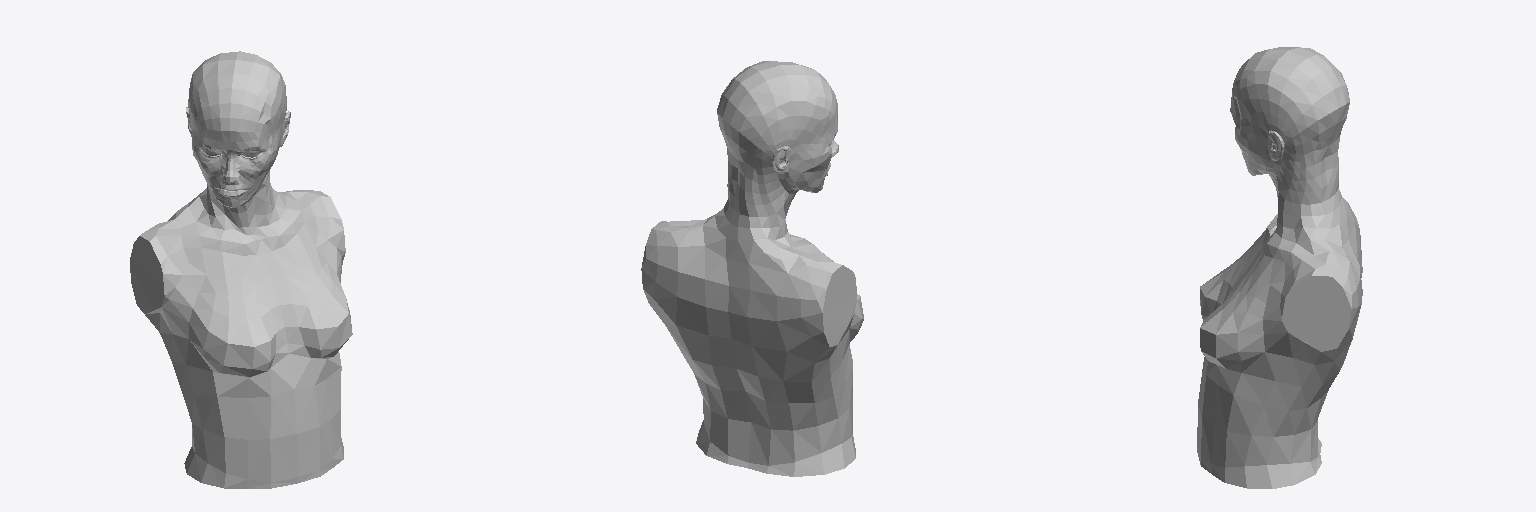
Rendered from mall_mannequin_female_torso2.obj.
The picture shows the model from 3 angles: view 1: azimuth 30°, elevation 25°; view 2: azimuth 150°, elevation 25°; view 3: azimuth 270°, elevation 25°; orthographic projection.
Parts seen in each view (by area): view 1: mall_mannequin_female_torso2; view 2: mall_mannequin_female_torso2; view 3: mall_mannequin_female_torso2.
Boxes of the visible parts, x1,y1,x2,y2 form: mall_mannequin_female_torso2: [130, 51, 352, 488]; mall_mannequin_female_torso2: [641, 61, 863, 476]; mall_mannequin_female_torso2: [1197, 47, 1362, 488].
Size of the model in its own units: 13.19 by 27.45 by 10.42.